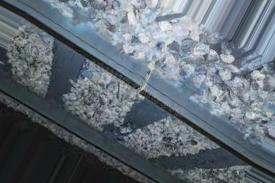tracks_fault: (128, 47, 170, 116)
